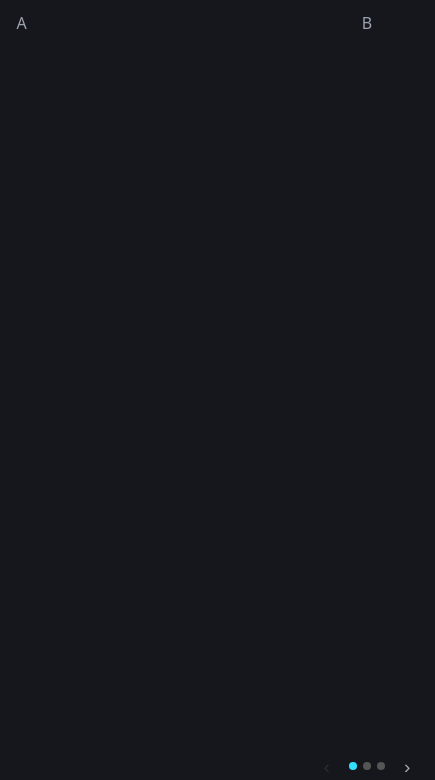
OptionGrid › advances to the next page when the next button is clicked
Expected: the text with test id "card-0" reads "A", [16,12,27,34]
Click the button named "Next page".
click(407, 766)  # box [396,753,418,779]
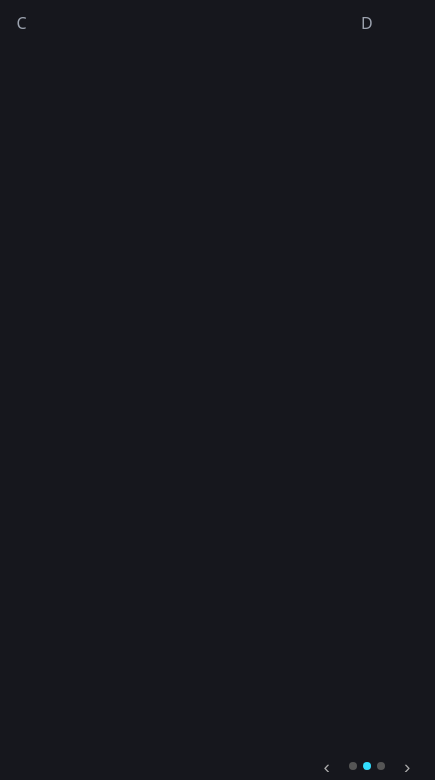
Expected: the text with test id "card-2" reads "C", [16,12,27,34]
Expected: the text with test id "card-3" reads "D", [361,12,373,34]
